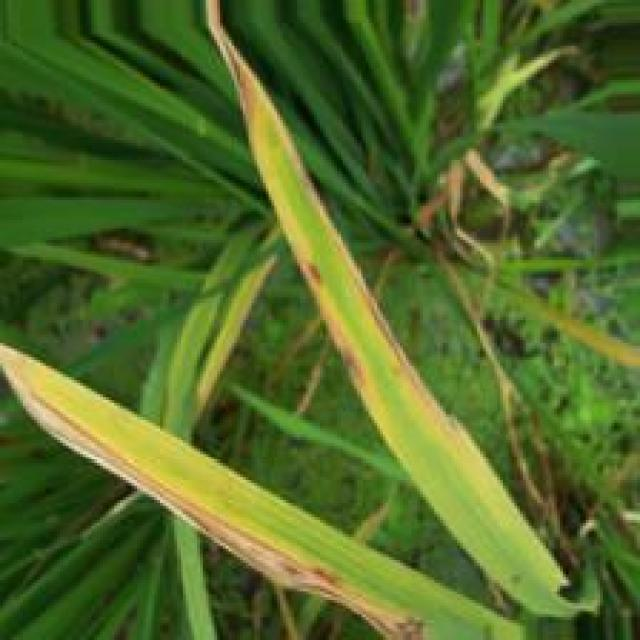Rice Tungro: (0, 352, 424, 640), (225, 11, 462, 440), (205, 21, 372, 393)
